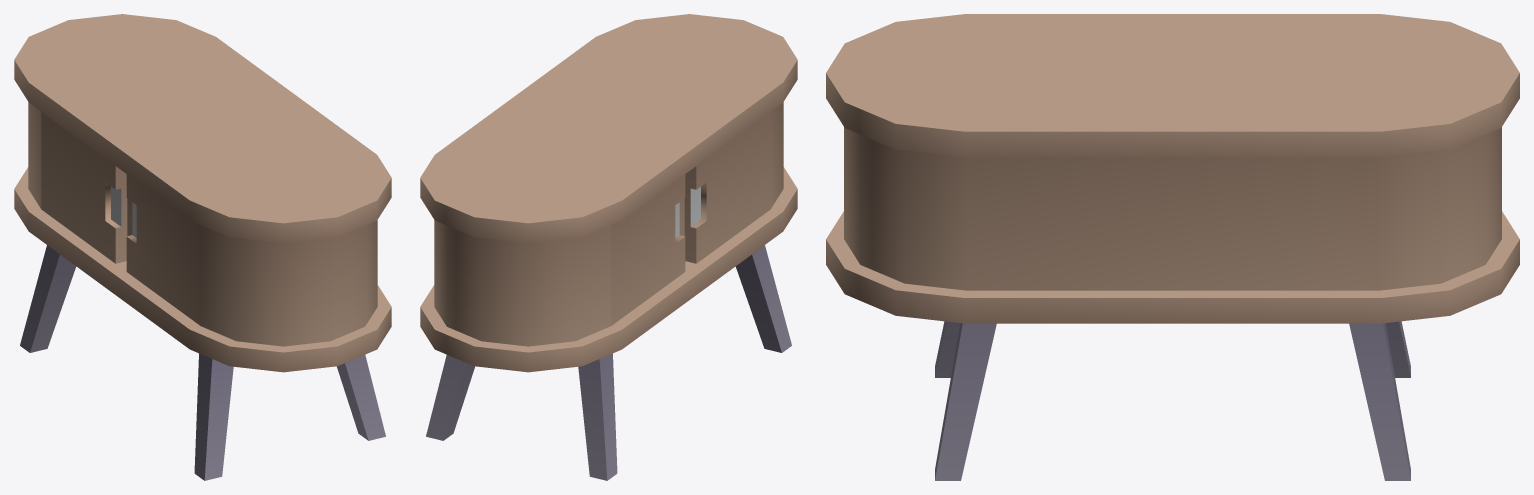
Rendered from sidetable-rounded.glb.
3 views of the same model, side by side, from view 1: azimuth 30°, elevation 25°; view 2: azimuth 150°, elevation 25°; view 3: azimuth 270°, elevation 25° (orthographic). The views are drawn at different scales.
Parts seen in each view (by area): view 1: sidetable-rounded; view 2: sidetable-rounded; view 3: sidetable-rounded.
Boxes of the visible parts, <box> form: sidetable-rounded: <box>14,14,391,480</box>; sidetable-rounded: <box>420,14,797,480</box>; sidetable-rounded: <box>826,14,1519,480</box>.
Bounding box in the file's own units: 0.4 × 0.556 × 0.996.
